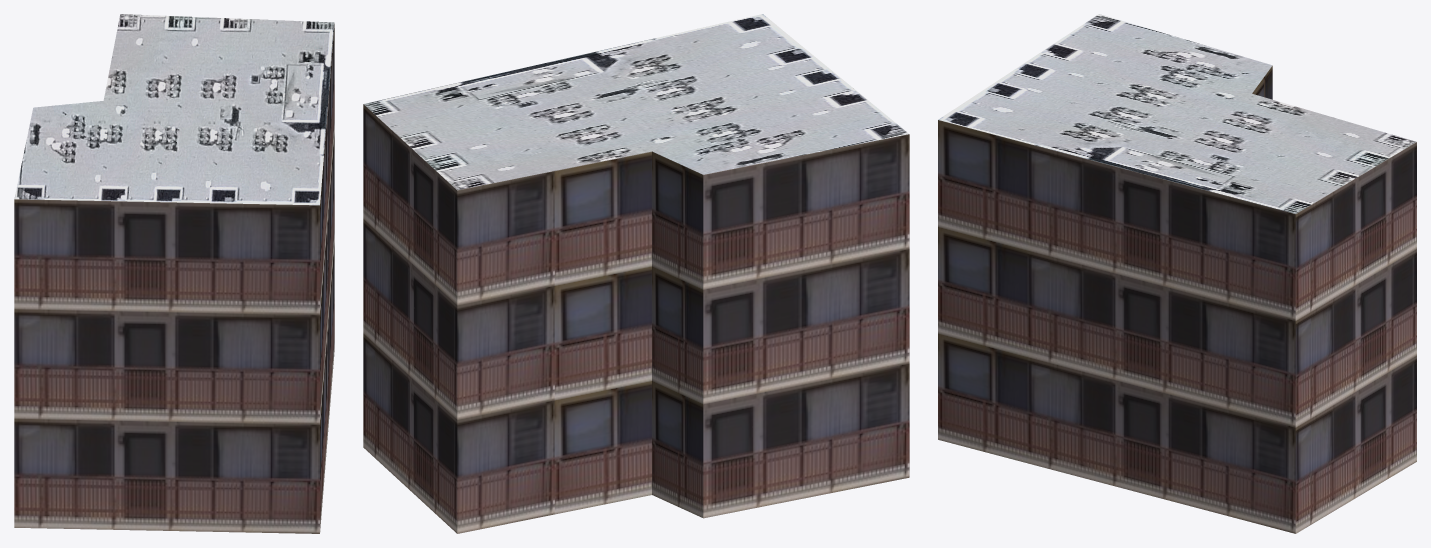
File: ResTex__3648.fbx
3 renders of one model, left to right at view 1: azimuth 30°, elevation 25°; view 2: azimuth 150°, elevation 25°; view 3: azimuth 270°, elevation 25°, orthographic. The views are drawn at different scales.
Parts seen in each view (by area): view 1: CityEngineMaterial_6_m, CityEngineMaterial_8_m; view 2: CityEngineMaterial_6_m, CityEngineMaterial_8_m; view 3: CityEngineMaterial_6_m, CityEngineMaterial_8_m.
Boxes of the visible parts, <box> form: CityEngineMaterial_6_m: <box>14,24,334,533</box>; CityEngineMaterial_8_m: <box>14,14,334,205</box>; CityEngineMaterial_6_m: <box>363,104,909,533</box>; CityEngineMaterial_8_m: <box>364,14,909,190</box>; CityEngineMaterial_6_m: <box>938,65,1416,533</box>; CityEngineMaterial_8_m: <box>938,14,1416,213</box>.
Bounding box in the file's own units: 12.07 × 9 × 12.21.
Materials: 2 (2 with a texture image).
